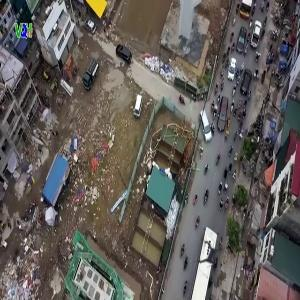drone: (179, 225, 240, 286)
